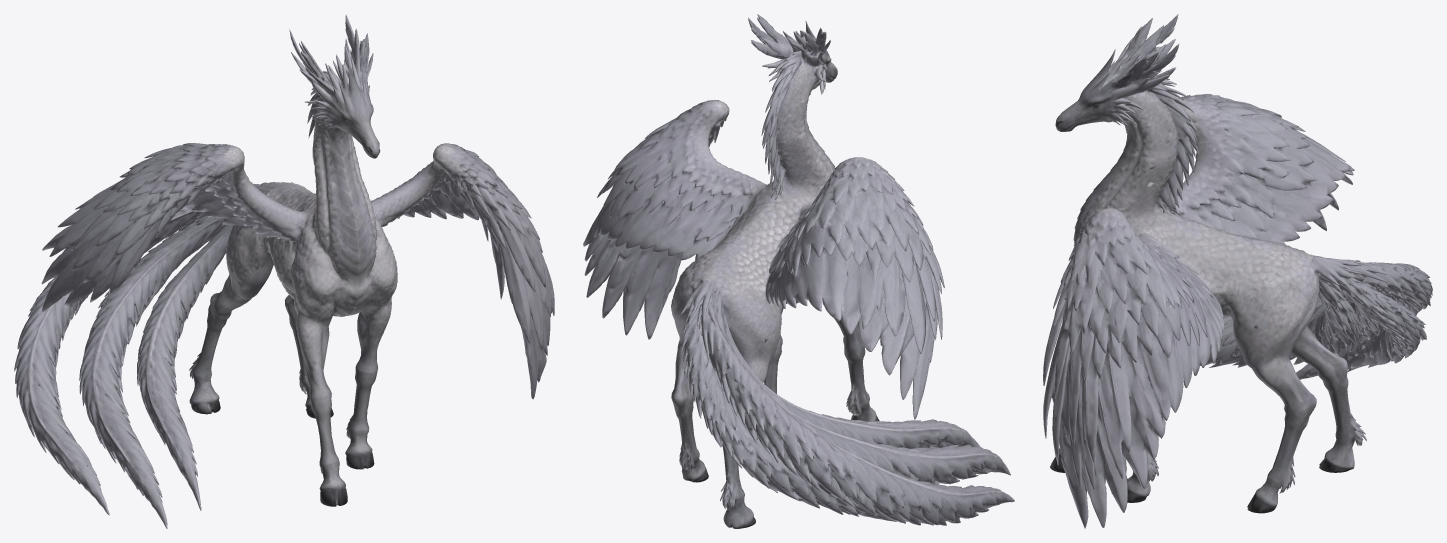
File: fenra-species-source.glb
3 views of the same model, side by side, from view 1: azimuth 30°, elevation 25°; view 2: azimuth 150°, elevation 25°; view 3: azimuth 270°, elevation 25° (orthographic). The views are drawn at different scales.
Parts seen in each view (by area): view 1: Mesh_0; view 2: Mesh_0; view 3: Mesh_0.
Boxes of the visible parts, x1,y1,x2,y2 form: Mesh_0: (14,14,554,528); Mesh_0: (583,14,1014,528); Mesh_0: (1043,14,1432,528).
Size of the model in its own units: 1.9 by 1.77 by 1.36.
Materials: 1 (1 with a texture image).
